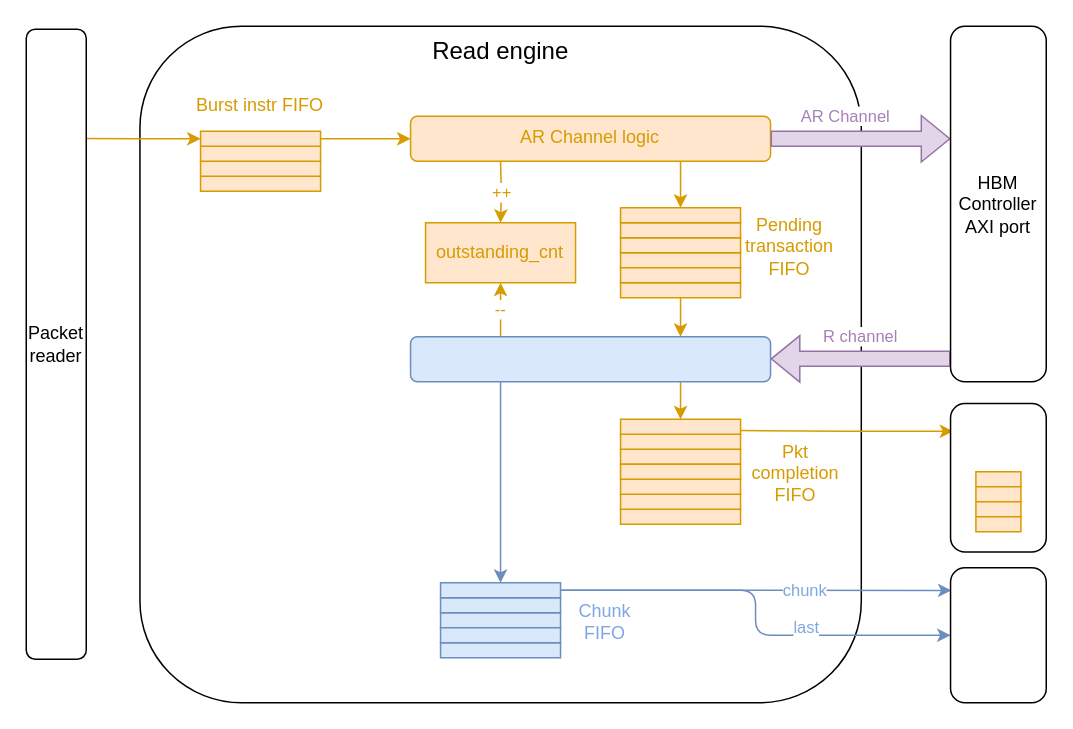
The diagram is 1073 pixels wide and 729 high, and some of its shapes have lost their labels. Here are the shapes that lost their labels. From the top down, the box of each, then its label:
(409, 335, 771, 382): R channel logic
(949, 402, 1046, 552): Free mem FIFO
(949, 566, 1046, 703): FEC encoder
